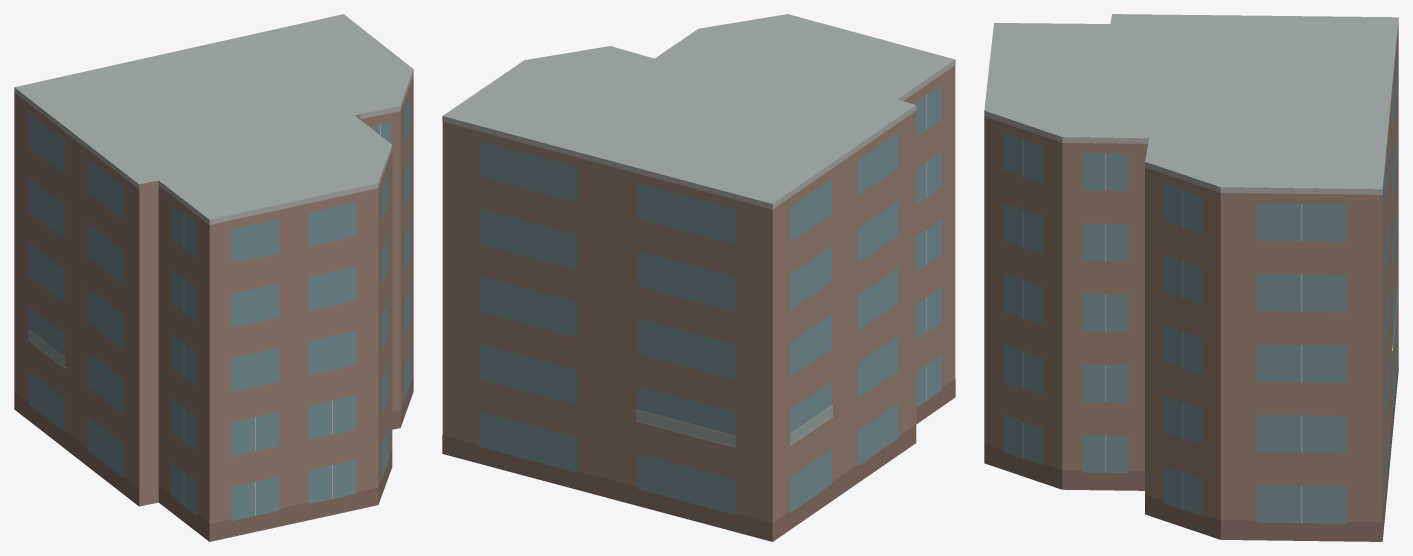
Rendered from survey-upis-32567833.glb.
The picture shows the model from 3 angles, left to right: view 1: azimuth 30°, elevation 25°; view 2: azimuth 150°, elevation 25°; view 3: azimuth 270°, elevation 25°; orthographic projection. The views are drawn at different scales.
Visible parts, largest first — view 1: survey-upis-32567833.tmp; view 2: survey-upis-32567833.tmp; view 3: survey-upis-32567833.tmp.
Boxes of the visible parts, bbox=[...] form: survey-upis-32567833.tmp: bbox=[14, 14, 413, 541]; survey-upis-32567833.tmp: bbox=[442, 14, 955, 541]; survey-upis-32567833.tmp: bbox=[984, 14, 1398, 541].
Bounding box in the file's own units: 16.27 × 15.25 × 16.25.
